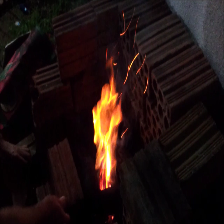fire_h: (92, 51, 122, 189)
fire_l: (124, 53, 139, 84), (120, 11, 134, 34), (137, 55, 147, 74), (121, 128, 129, 138), (144, 77, 149, 93), (109, 214, 114, 219)
